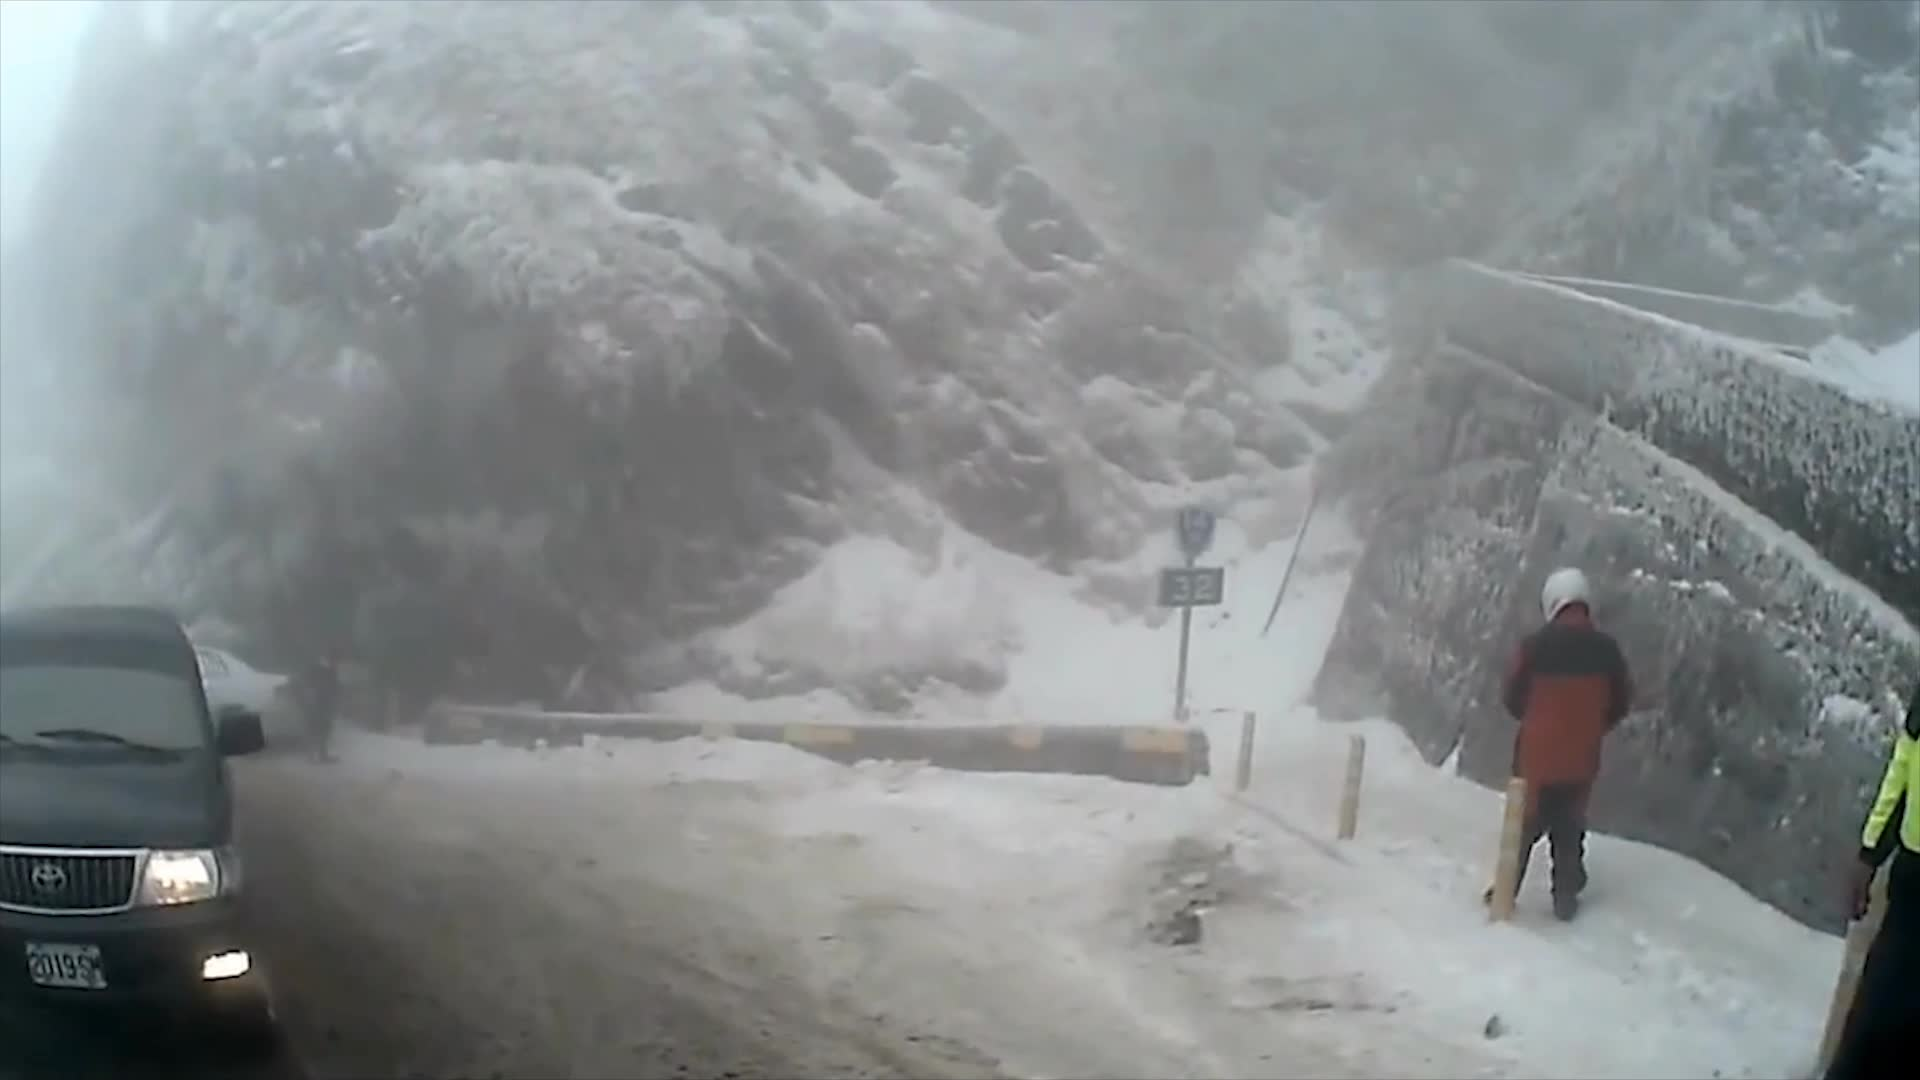pedestrian: (1485, 564, 1633, 920), (1825, 679, 1919, 1078)
vehicle: (0, 603, 279, 1072)
